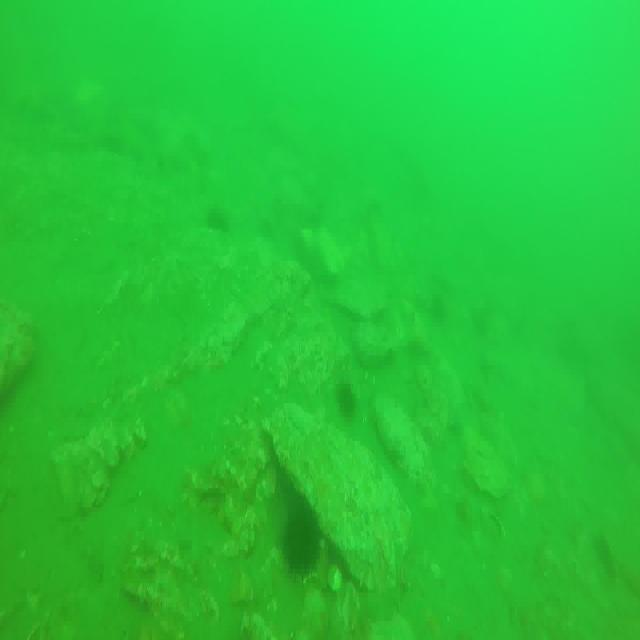echinus: (284, 504, 322, 578), (334, 381, 359, 424), (207, 206, 233, 240)
